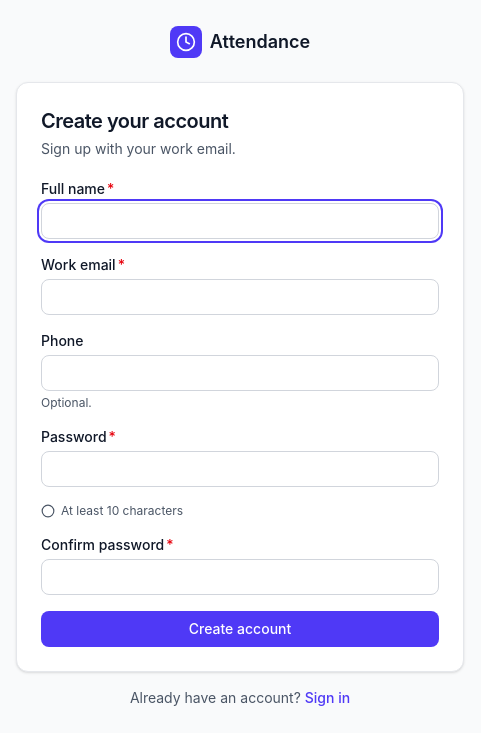
Test: SignupPage › validates the email format
The width and height of the screenshot is (481, 733).
Type "Asha Rao" into the field labelled "Full name*". click: coordinates (240, 221)
box: [41,203,439,239]
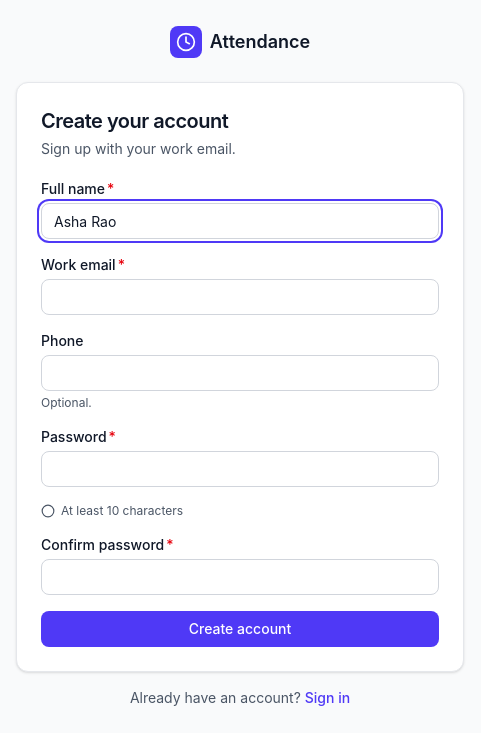
Type "not-an-email" into the field labelled "Work email*". click: coordinates (240, 297)
box: [41,279,439,315]
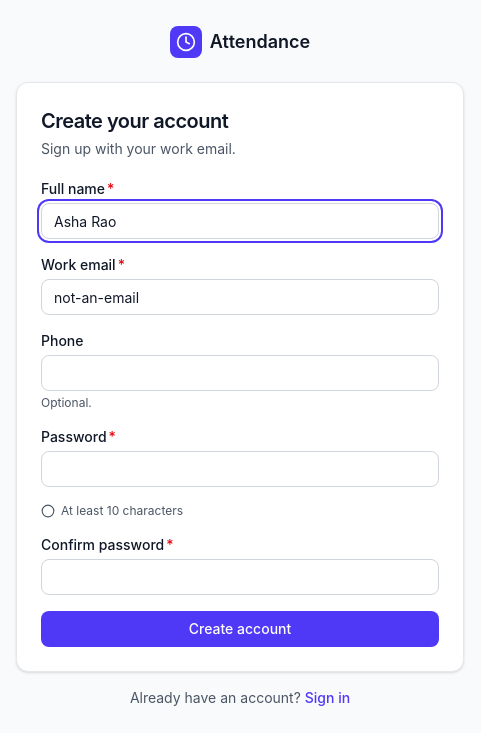
Type "StrongPass123" into the password field labelled "Password*". click: coordinates (240, 469)
box: [41,451,439,487]
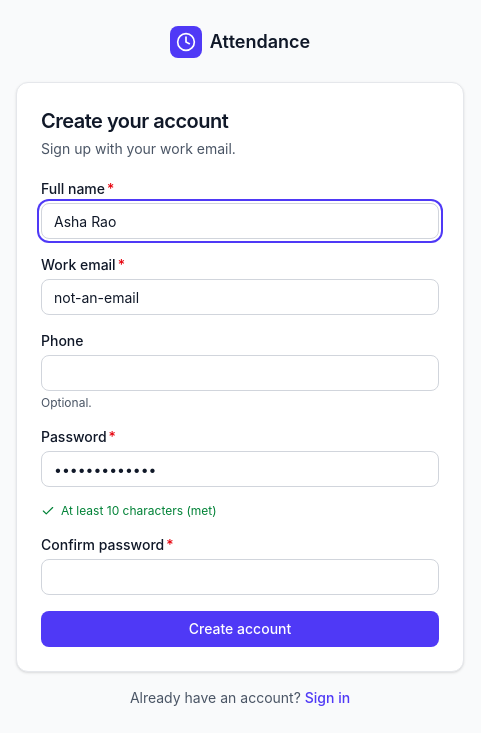
Type "StrongPass123" into the password field labelled "Confirm password*". click: coordinates (240, 577)
box: [41,559,439,595]
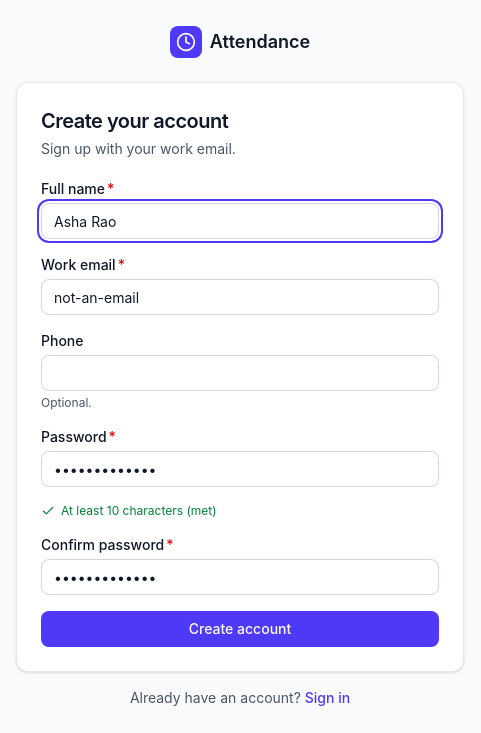
Click the button "Create account". click: coordinates (240, 629)
box: [41,611,439,647]
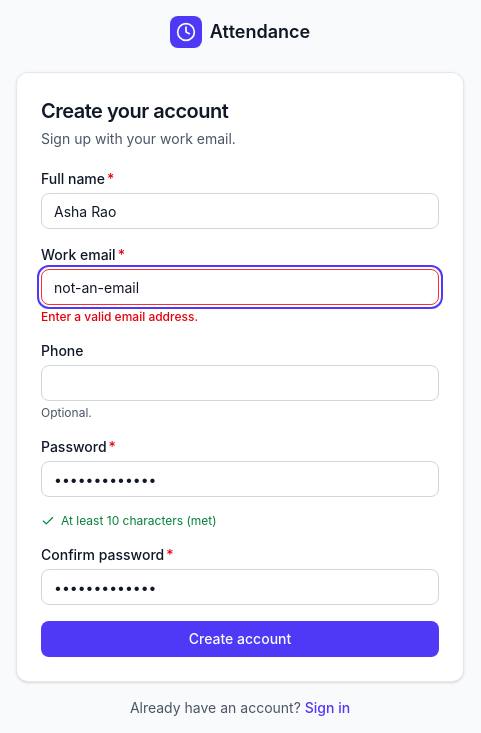
expect the text "Enter a valid email address." is shown: met, box [41,309,198,324]
